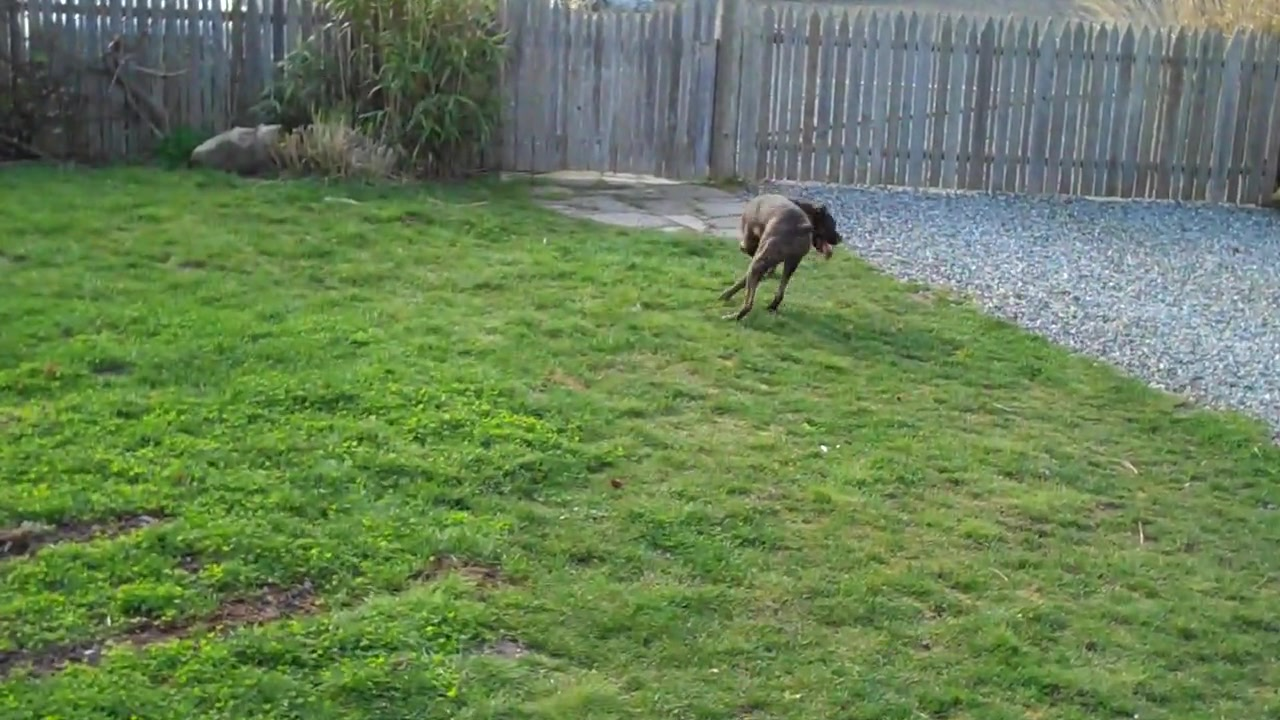dog: (716, 193, 849, 324)
